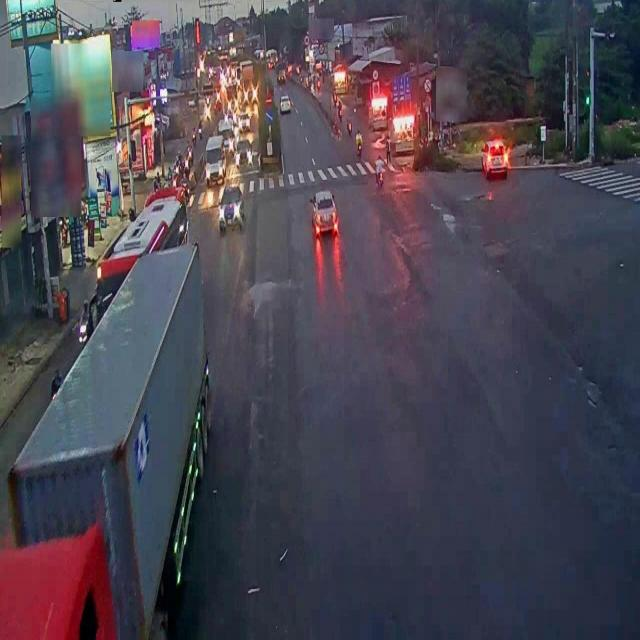car: (311, 188, 339, 240), (218, 184, 242, 230)
truck: (0, 236, 213, 640)
